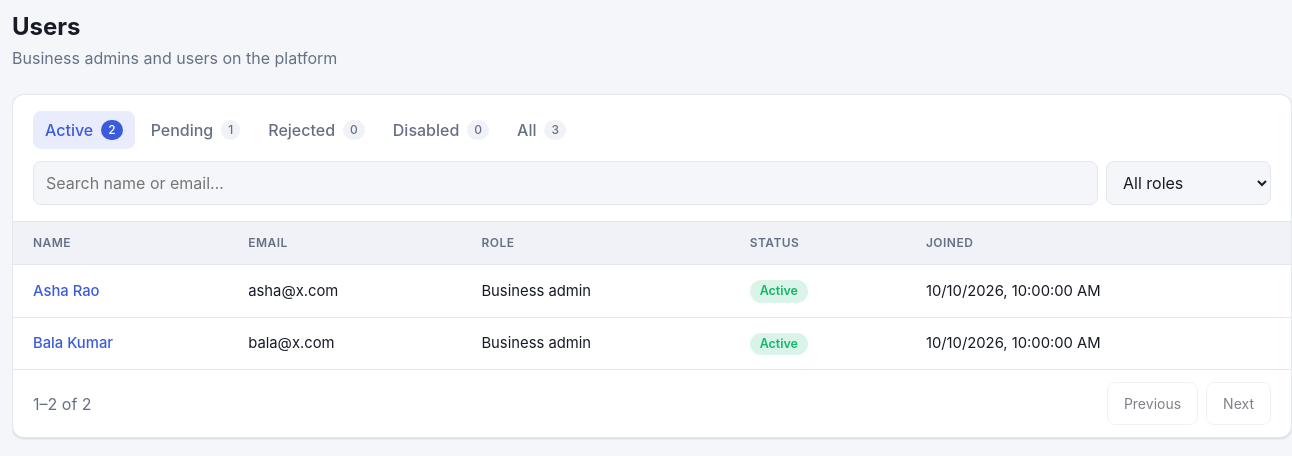
Test: UsersPage › shows an empty state
The width and height of the screenshot is (1292, 456).
Expected: the button "Asha Rao" is shown, [33,280,100,302]
Type "zzz" into the search field named "Search users" at (566, 183), box [33,161,1098,205]
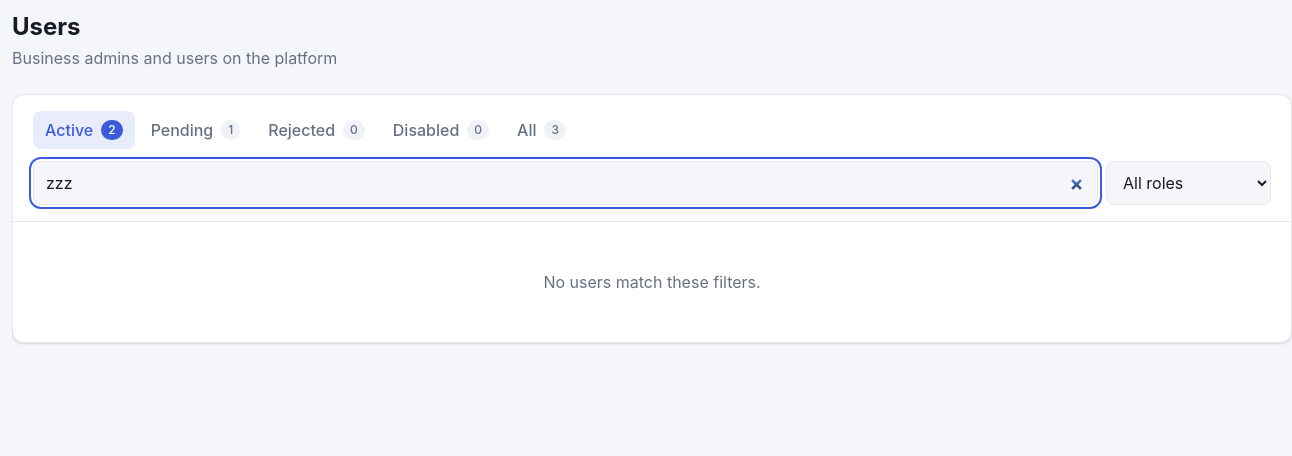
Result: the text "No users match these filters." is shown at [543,272,761,292]
